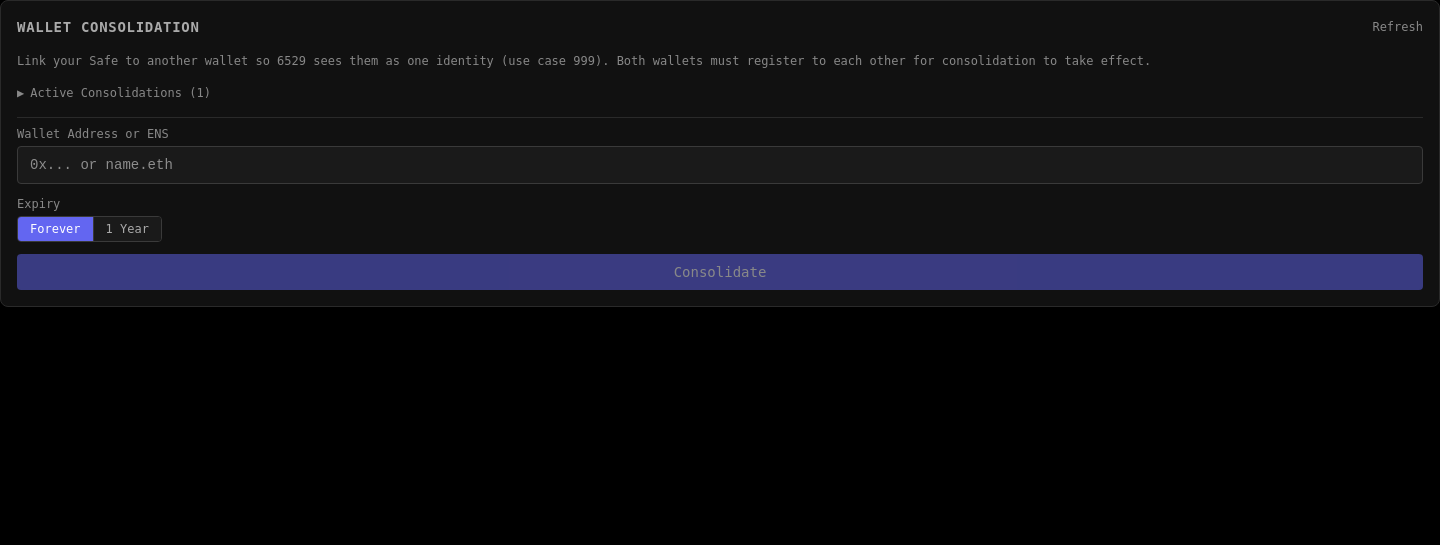
it: ConsolidationCard chain ID guard › blocks revoke on wrong chain
Click the button "▶ Active Consolidations (1)".
click(114, 93)  # box 17,85 -> 211,101
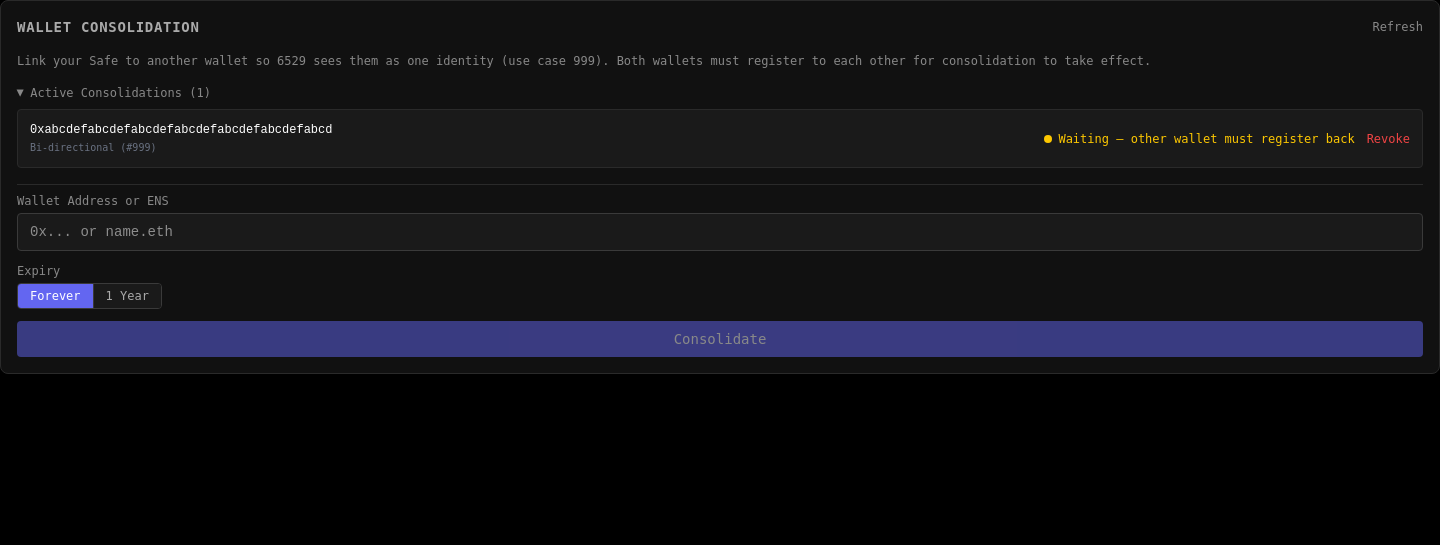
# Click Revoke to open confirmation
Click the button "Revoke".
click(1388, 138)  # box 1367,130 -> 1410,146
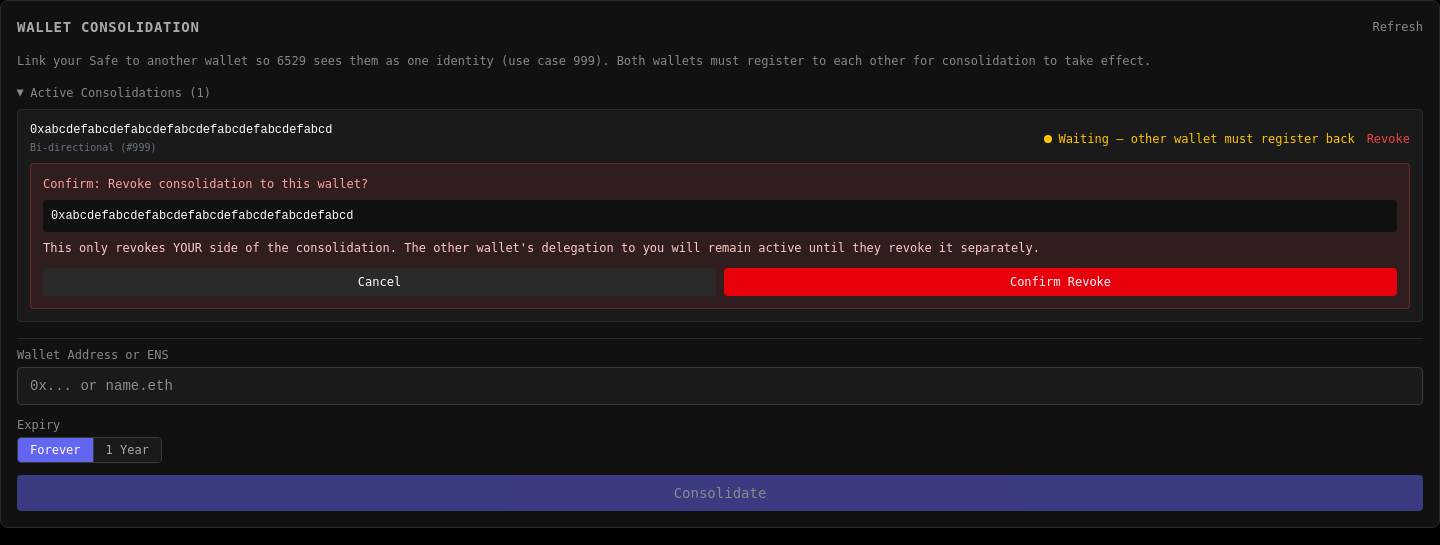
# Confirm the revoke
Click the button "Confirm Revoke".
click(1060, 282)  # box 724,268 -> 1397,296
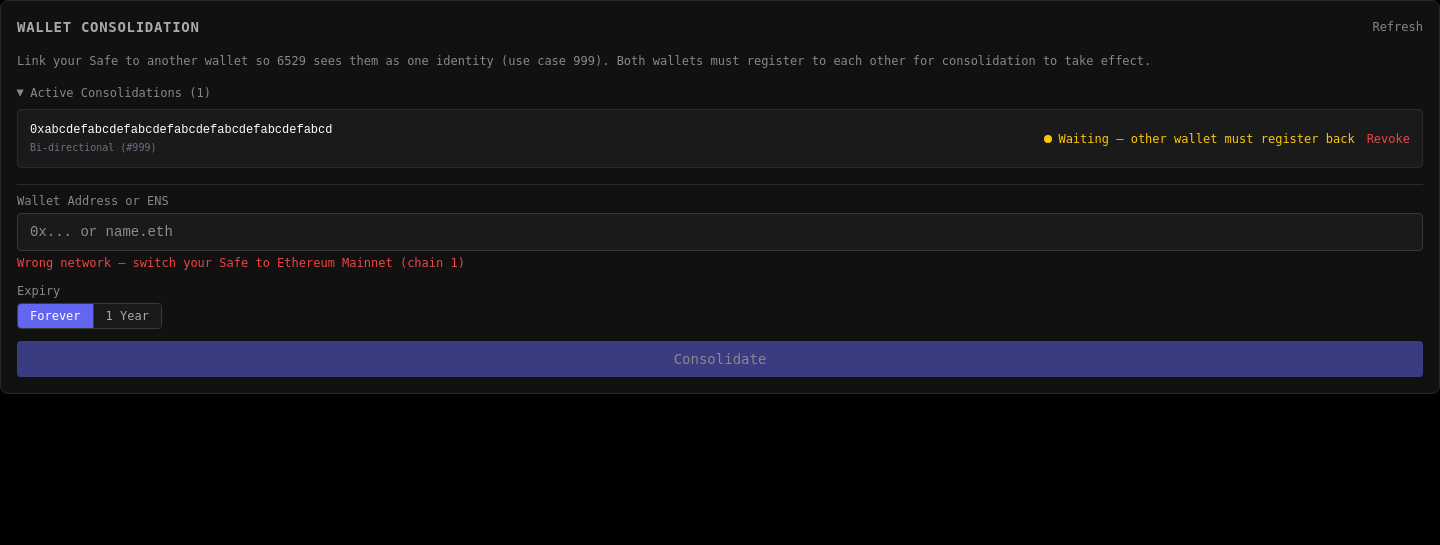
Expected: the text "Wrong network — switch your Safe to Ethereum Mainnet (chain 1)" is shown, 17,256 -> 465,270
